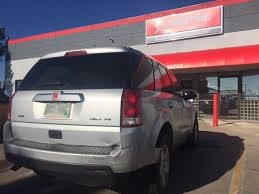Dent: (97, 136, 127, 164)
